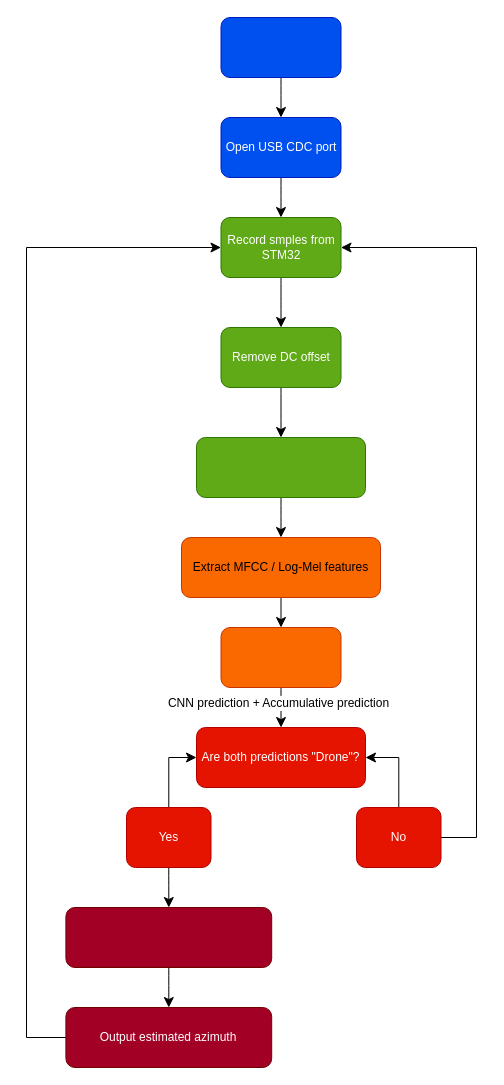
The diagram is 504 pixels wide and 1085 high, and some of its shapes have lost their labels. Each missing label, with the centre of its shape:
Classify sound: point 280,657
Initialize modules: point 280,47
Run GCC-PHAT + DOA estimation: point 168,937
Save samples as WAV file: point 281,467
